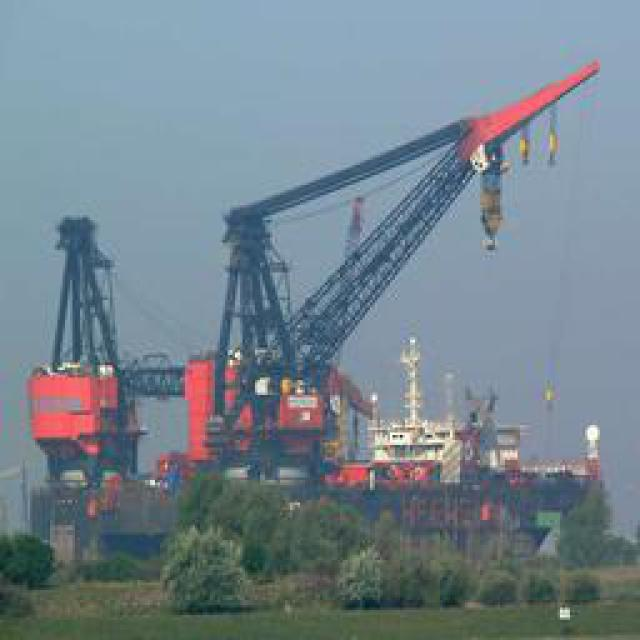Ship: (24, 330, 640, 579)
